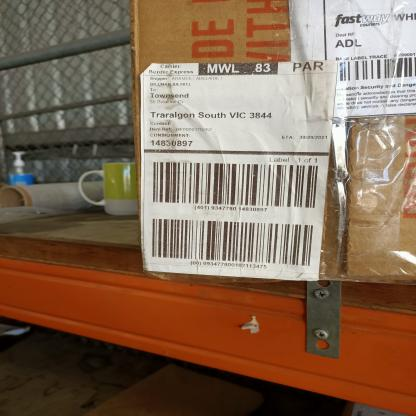label: (140, 62, 338, 280), (288, 1, 416, 118)
package: (128, 0, 416, 284)
